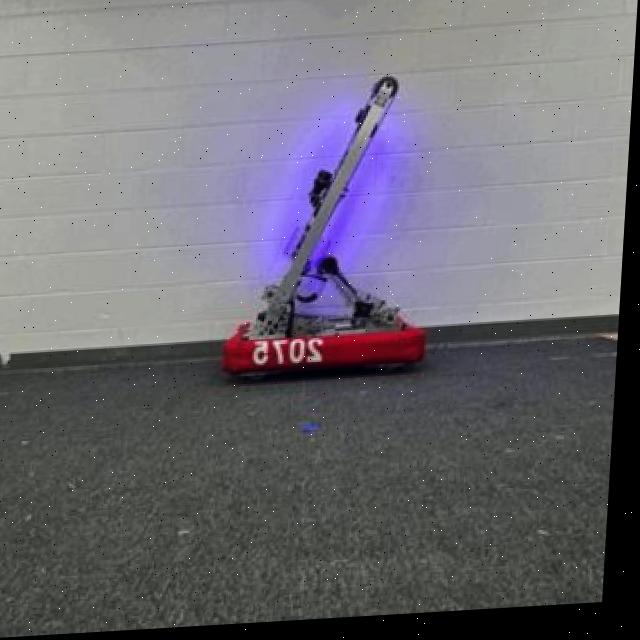robot: (215, 58, 456, 401)
